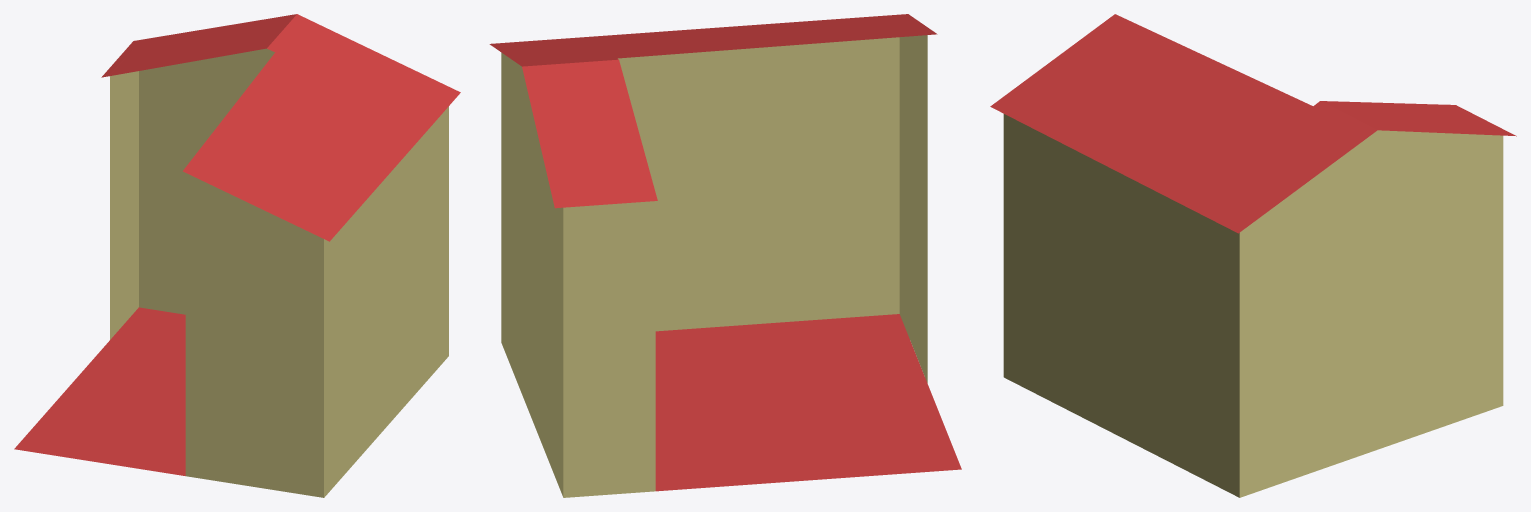
The picture shows the model from 3 angles, left to right: view 1: azimuth 30°, elevation 25°; view 2: azimuth 150°, elevation 25°; view 3: azimuth 270°, elevation 25°; orthographic projection. The views are drawn at different scales.
Visible parts, largest first — view 1: group_5, group_3, group_6, group_4; view 2: group_5, group_6, group_3; view 3: group_5, group_3, group_4.
Boxes of the visible parts, x1=… form: group_5: x1=110, y1=48, x2=448, y2=497; group_3: x1=101, y1=14, x2=460, y2=241; group_6: x1=14, y1=307, x2=185, y2=475; group_4: x1=104, y1=15, x2=454, y2=239; group_5: x1=501, y1=35, x2=927, y2=497; group_6: x1=655, y1=314, x2=961, y2=491; group_3: x1=489, y1=14, x2=936, y2=208; group_5: x1=1003, y1=114, x2=1503, y2=497; group_3: x1=990, y1=14, x2=1516, y2=233; group_4: x1=995, y1=14, x2=1512, y2=231.
Size of the model in its own units: 13.43 by 13.68 by 9.3.
